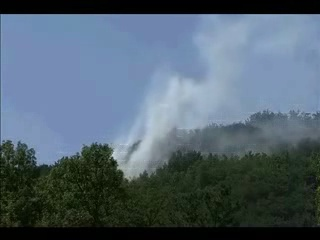smoke: (187, 19, 318, 159), (111, 67, 185, 183)
